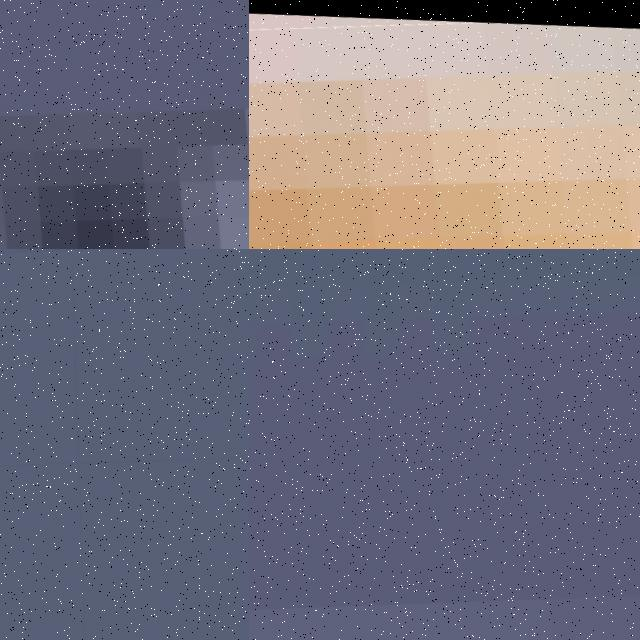drone: (249, 0, 640, 249), (0, 0, 249, 249)
